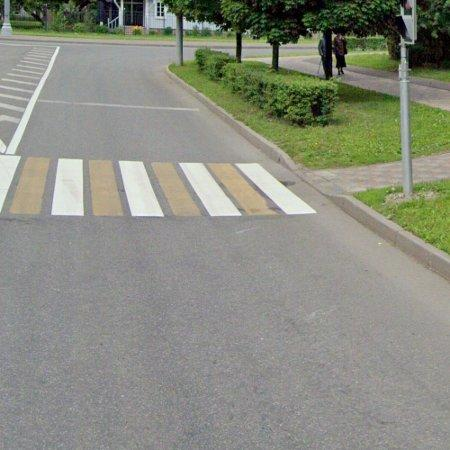crosswalks: (0, 153, 314, 215)
